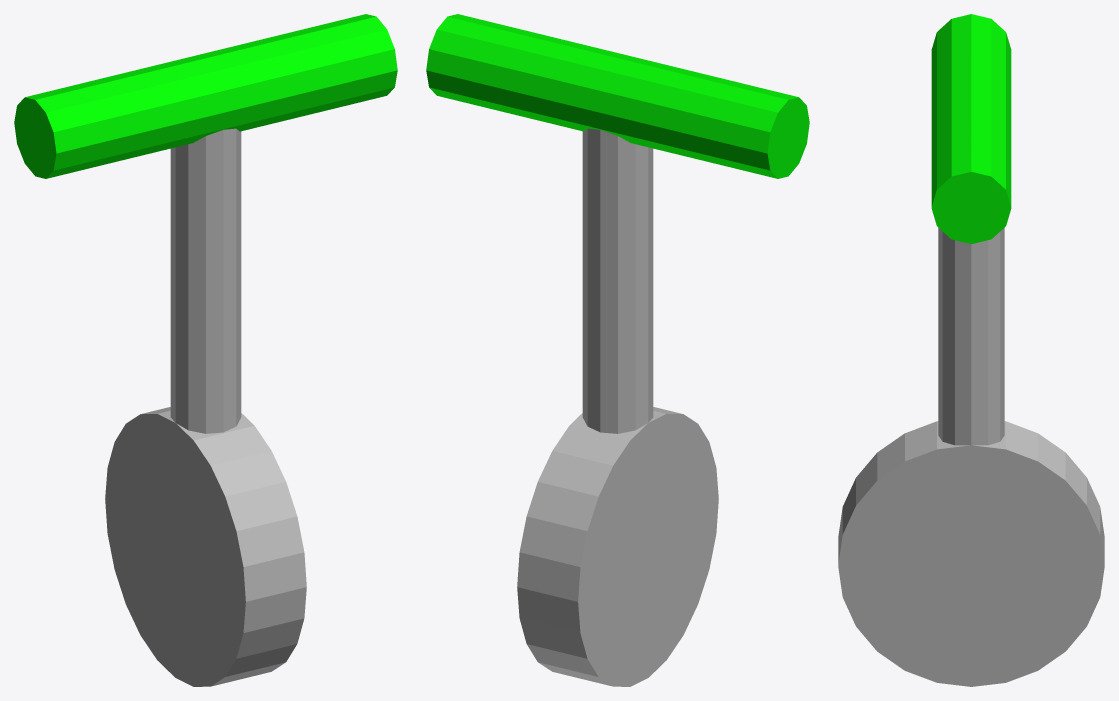
Rendered from hebel1.obj.
The picture shows the model from 3 angles, left to right: view 1: azimuth 30°, elevation 25°; view 2: azimuth 150°, elevation 25°; view 3: azimuth 270°, elevation 25°; orthographic projection. The views are drawn at different scales.
Visible parts, largest first — view 1: hebel1; view 2: hebel1; view 3: hebel1.
Boxes of the visible parts, x1,y1,x2,y2 form: hebel1: (14,14,397,686); hebel1: (426,14,809,686); hebel1: (838,14,1104,686).
Bounding box in the file's own units: 0.28 × 0.48 × 0.2.
